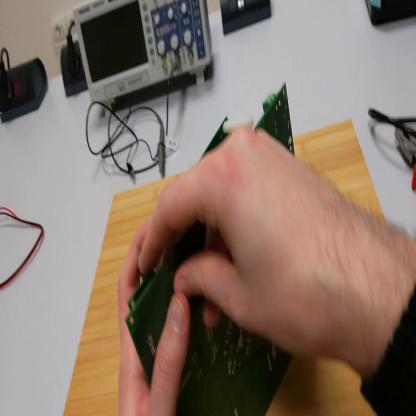hand: (131, 129, 357, 357), (117, 229, 192, 416)
low voltage board: (126, 86, 297, 415)
oscilloscope: (75, 2, 213, 115)
oscilloscope probe tip: (157, 114, 168, 179)
pliers: (394, 122, 416, 194)
socket: (1, 59, 50, 126), (60, 42, 90, 101)
welder station: (366, 2, 416, 32)
working area: (64, 109, 387, 414)
